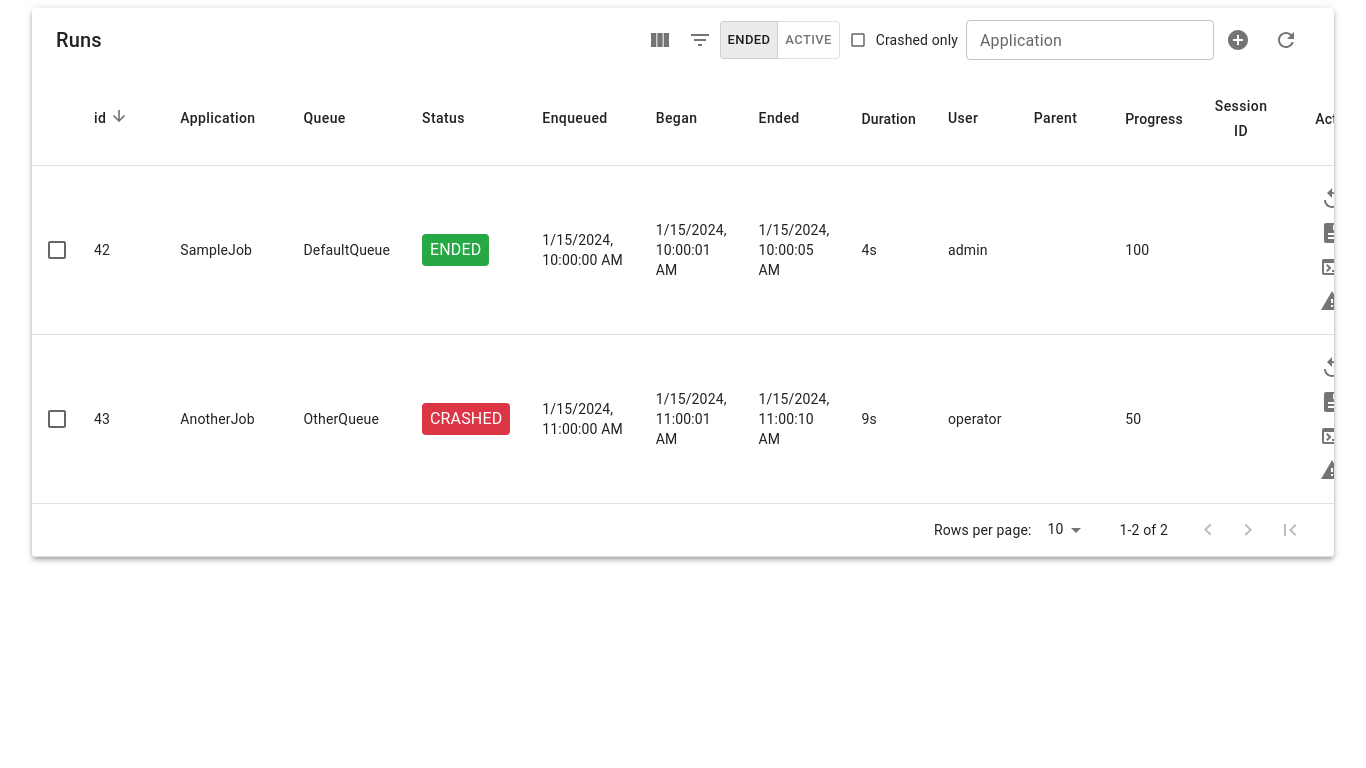
Test: RunsPage › opens job instance details dialog when clicking show details button
Check: the text "SampleJob" is shown, box x1=180 y1=242 x2=252 y2=258
Click the button named "Show details" in the row of "42" at x=1332, y=233, box x1=1315 y1=216 x2=1349 y2=250
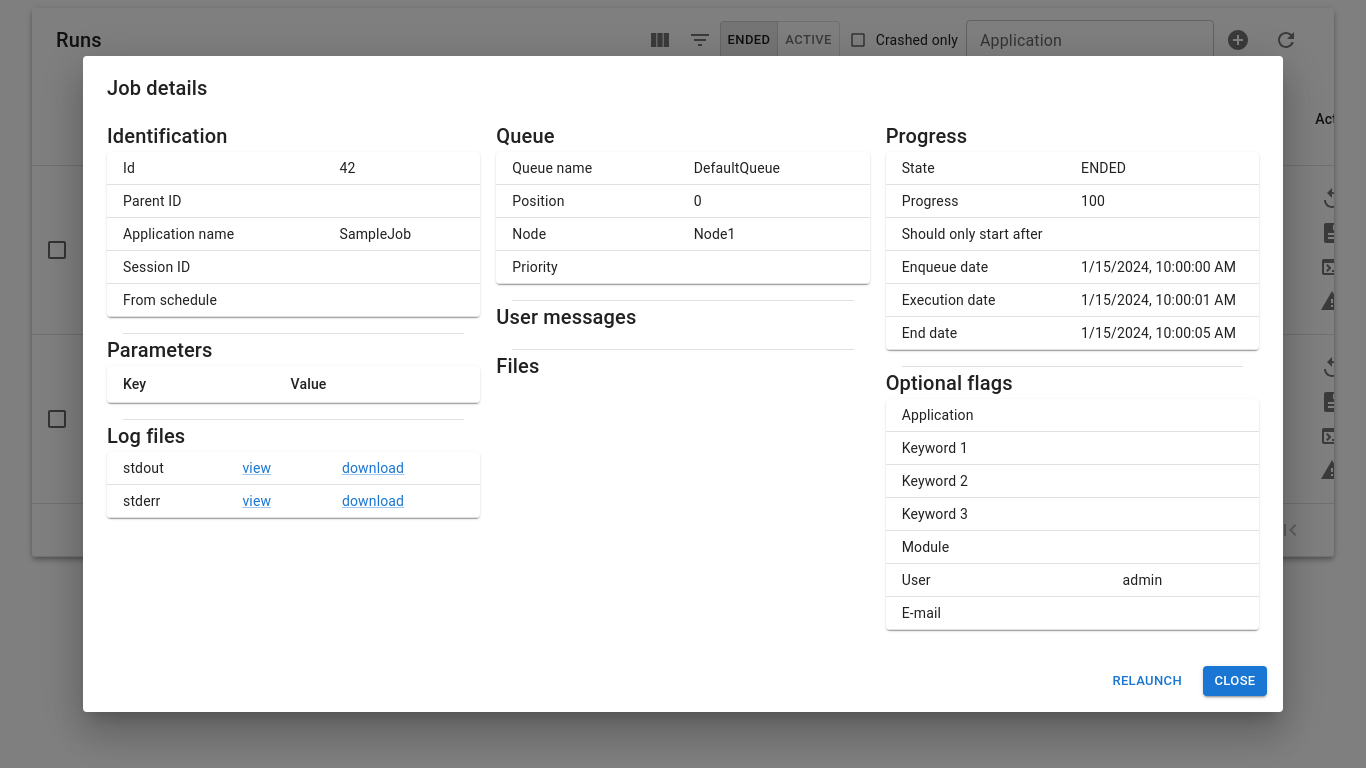
Check: the dialog is shown
Check: the heading "Job details" is shown, box x1=107 y1=76 x2=208 y2=100
